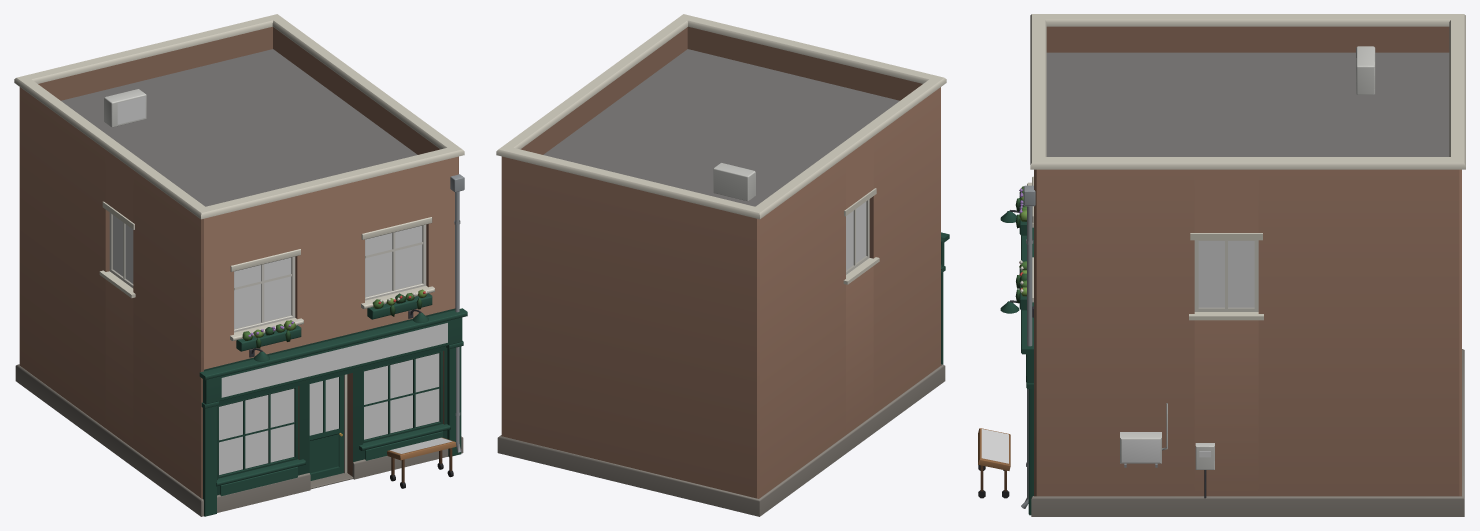
The model's file is ShopBooks.fbx.
3 views of the same model, side by side, from view 1: azimuth 30°, elevation 25°; view 2: azimuth 150°, elevation 25°; view 3: azimuth 270°, elevation 25° (orthographic). The views are drawn at different scales.
Visible parts, largest first — view 1: ShopBooks; view 2: ShopBooks; view 3: ShopBooks.
Boxes of the visible parts, x1=… form: ShopBooks: x1=14, y1=14, x2=467, y2=516; ShopBooks: x1=496, y1=14, x2=949, y2=516; ShopBooks: x1=978, y1=14, x2=1465, y2=516.
Size of the model in its own units: 6.93 by 7.3 by 9.11.
